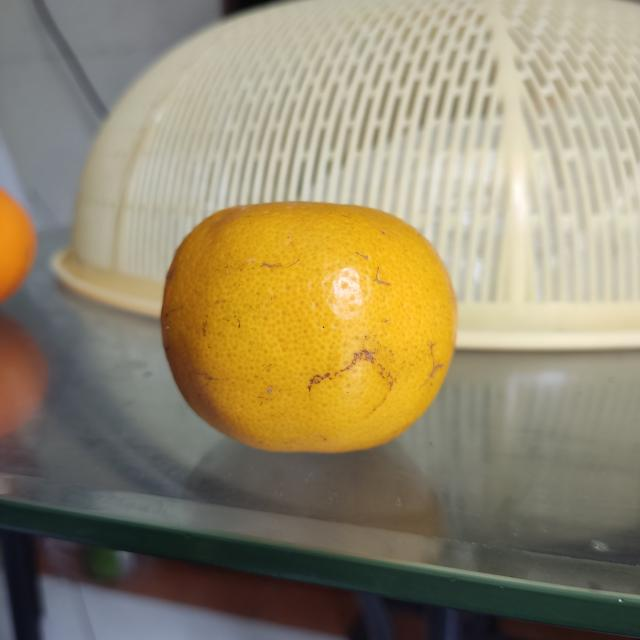orange: (160, 198, 466, 458)
